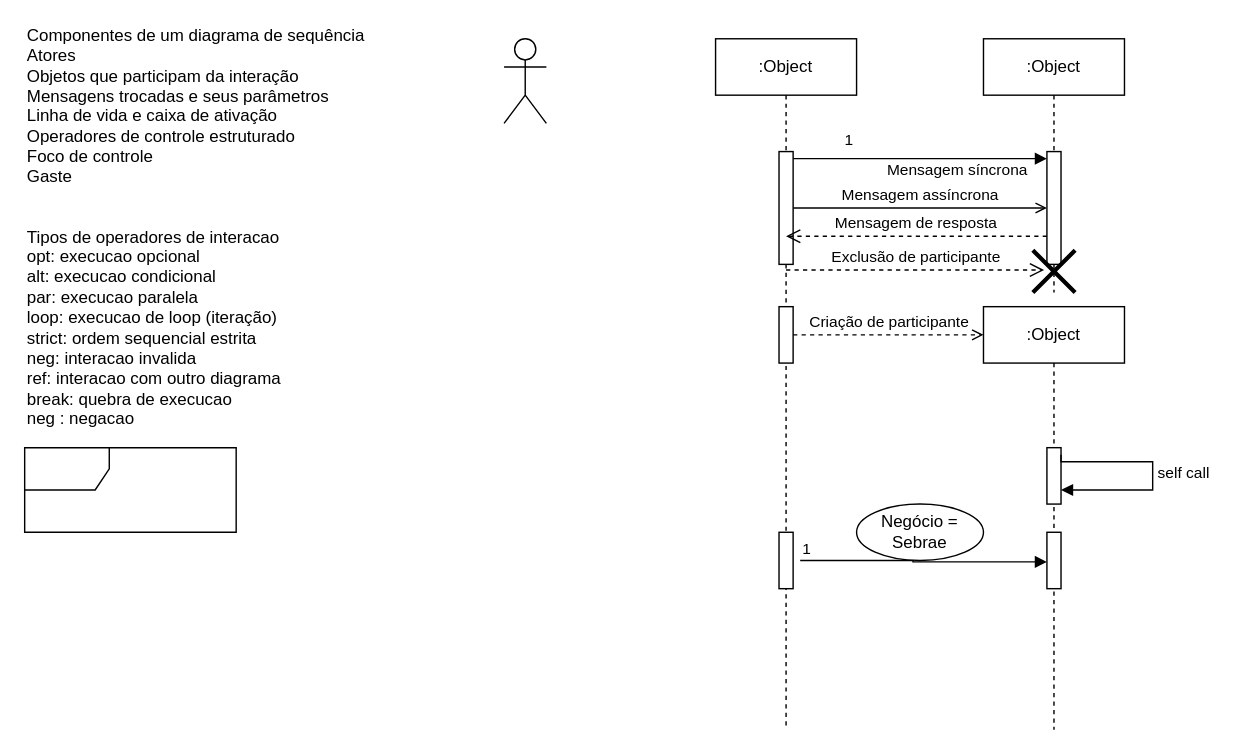
This 1235x754 diagram has some shape labels left out. The shapes that lost their labels are listed below. From the top down, each one's centre as x and y in pixels, then its label:
the point at 524,80: Actor
the point at 129,489: ad
